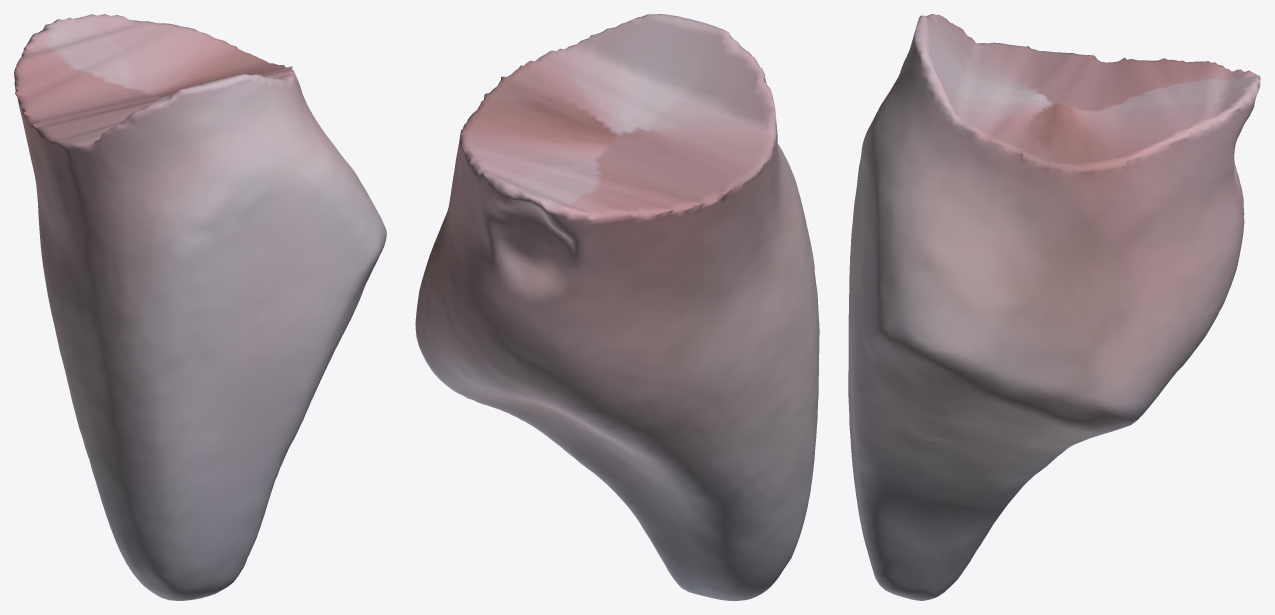
Rendered from PC Clase IV - Corte Oclusal.glb.
3 renders of one model, left to right at view 1: azimuth 30°, elevation 25°; view 2: azimuth 150°, elevation 25°; view 3: azimuth 270°, elevation 25°, orthographic. The views are drawn at different scales.
Visible parts, largest first — view 1: Clase IV - Corte Oclusal; view 2: Clase IV - Corte Oclusal; view 3: Clase IV - Corte Oclusal.
Part boxes in pixels (x1,y1,x2,y2): Clase IV - Corte Oclusal: (14,14,386,600); Clase IV - Corte Oclusal: (415,14,819,600); Clase IV - Corte Oclusal: (848,14,1260,600).
Bounding box in the file's own units: 7.48 × 12.27 × 8.
